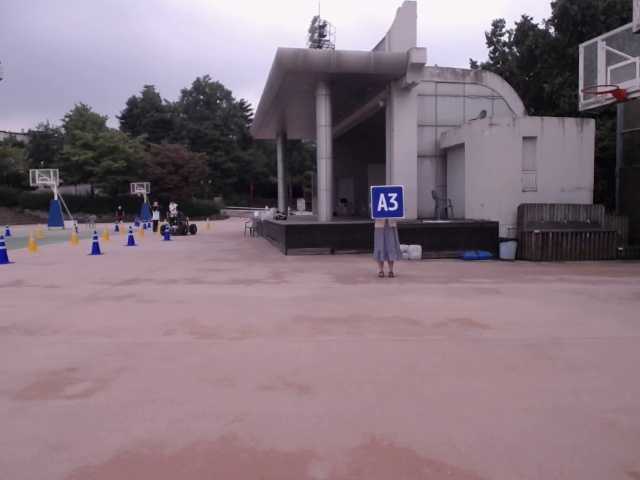delivery_a3: (372, 185, 404, 219)
